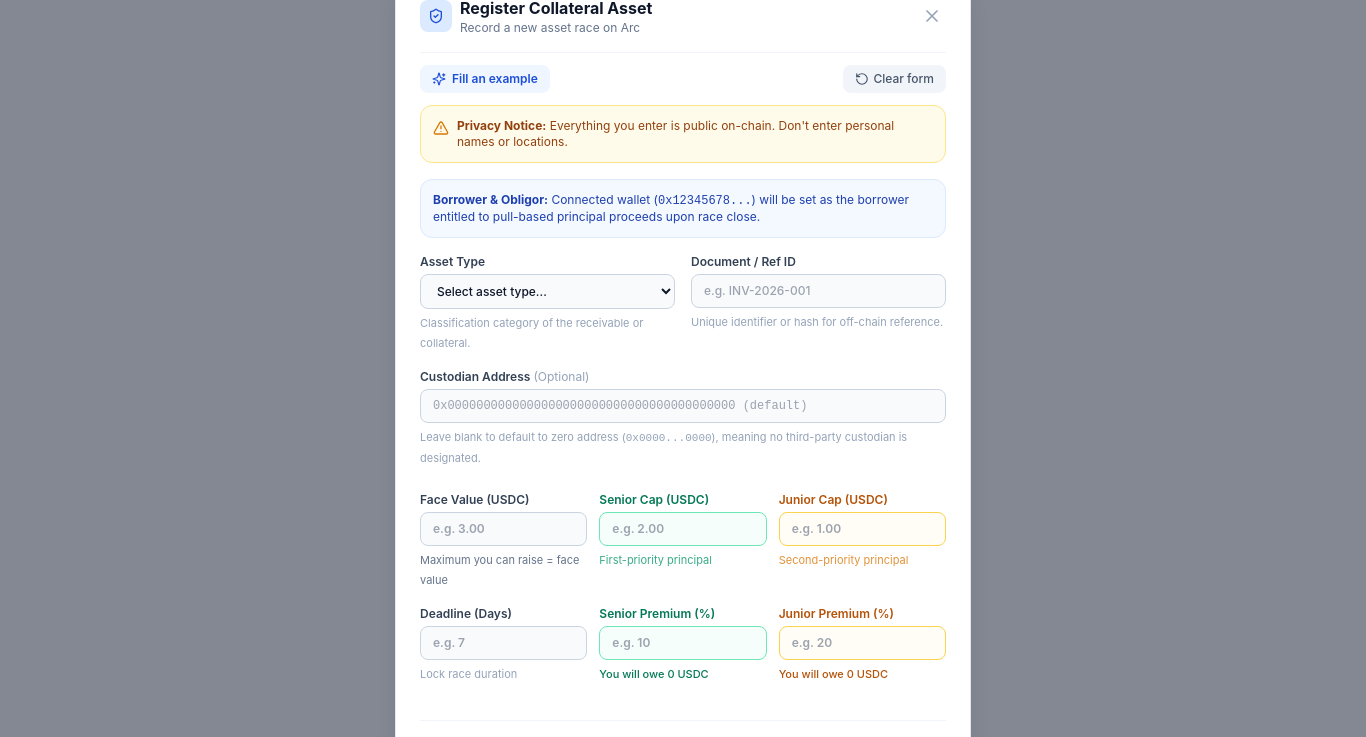
Test: RegisterAssetModal UI Unit Tests › fills the example values when "Fill an example" is clicked
The image size is (1366, 737).
Click the button "Fill an example": (485, 78) [420,64,550,92]
(page scrolled)
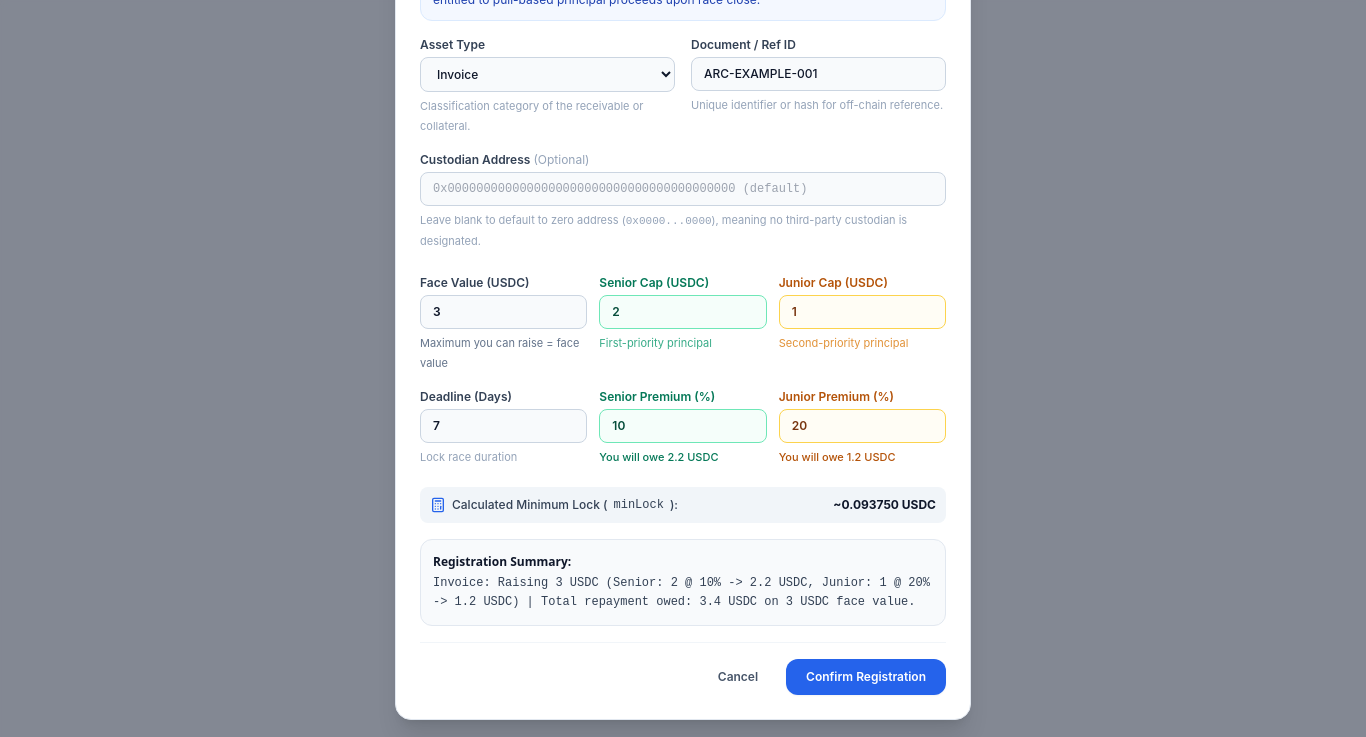
Now the text "You will owe 2.2 USDC" is shown, box [599,450,718,464]
Now the text "You will owe 1.2 USDC" is shown, box [779,450,896,464]
Now the text "Registration Summary:" is shown, box [433,553,571,570]
